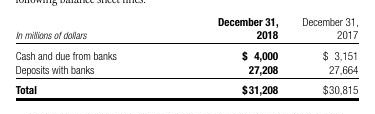table: (0, 0, 375, 114)
